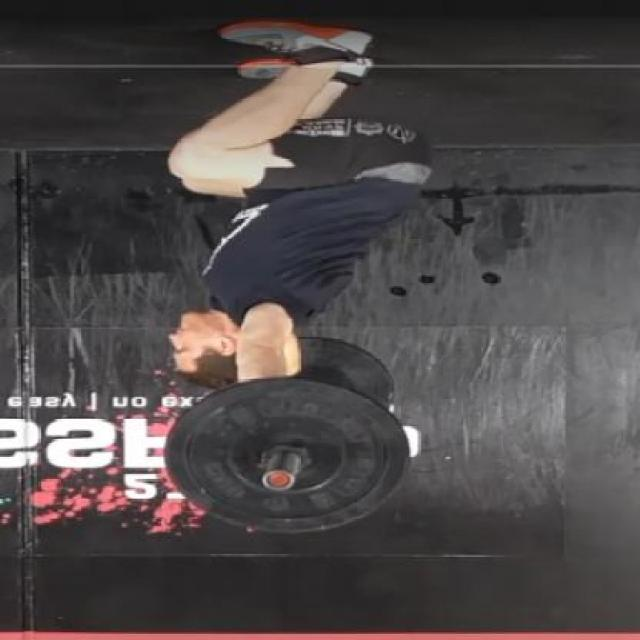Barbell: (258, 470, 300, 492)
